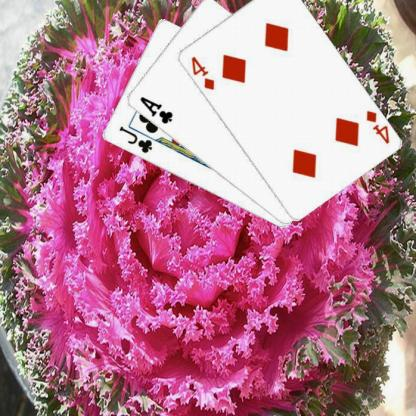4D: (363, 107, 390, 146), (188, 54, 216, 91)
AC: (137, 94, 174, 125)
JC: (116, 123, 153, 155)
